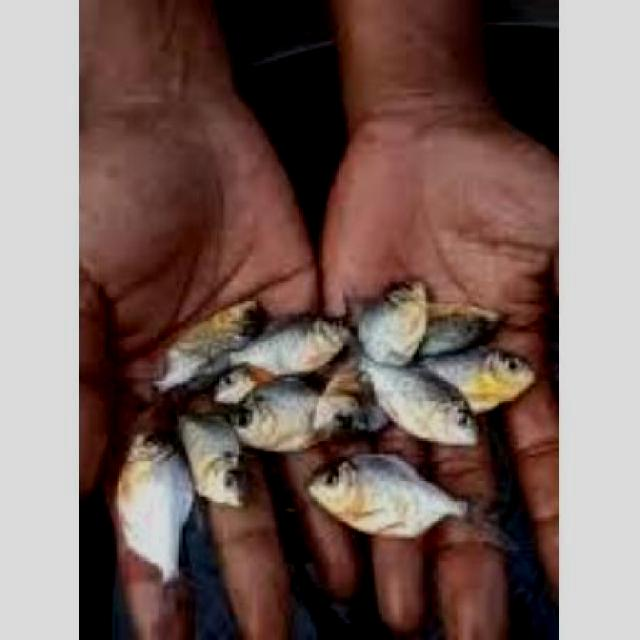ikan-pacu: (319, 448, 472, 542), (119, 428, 192, 554), (366, 362, 477, 444), (165, 404, 250, 498), (236, 304, 350, 370), (426, 338, 534, 404), (242, 384, 331, 459), (349, 282, 428, 364)
